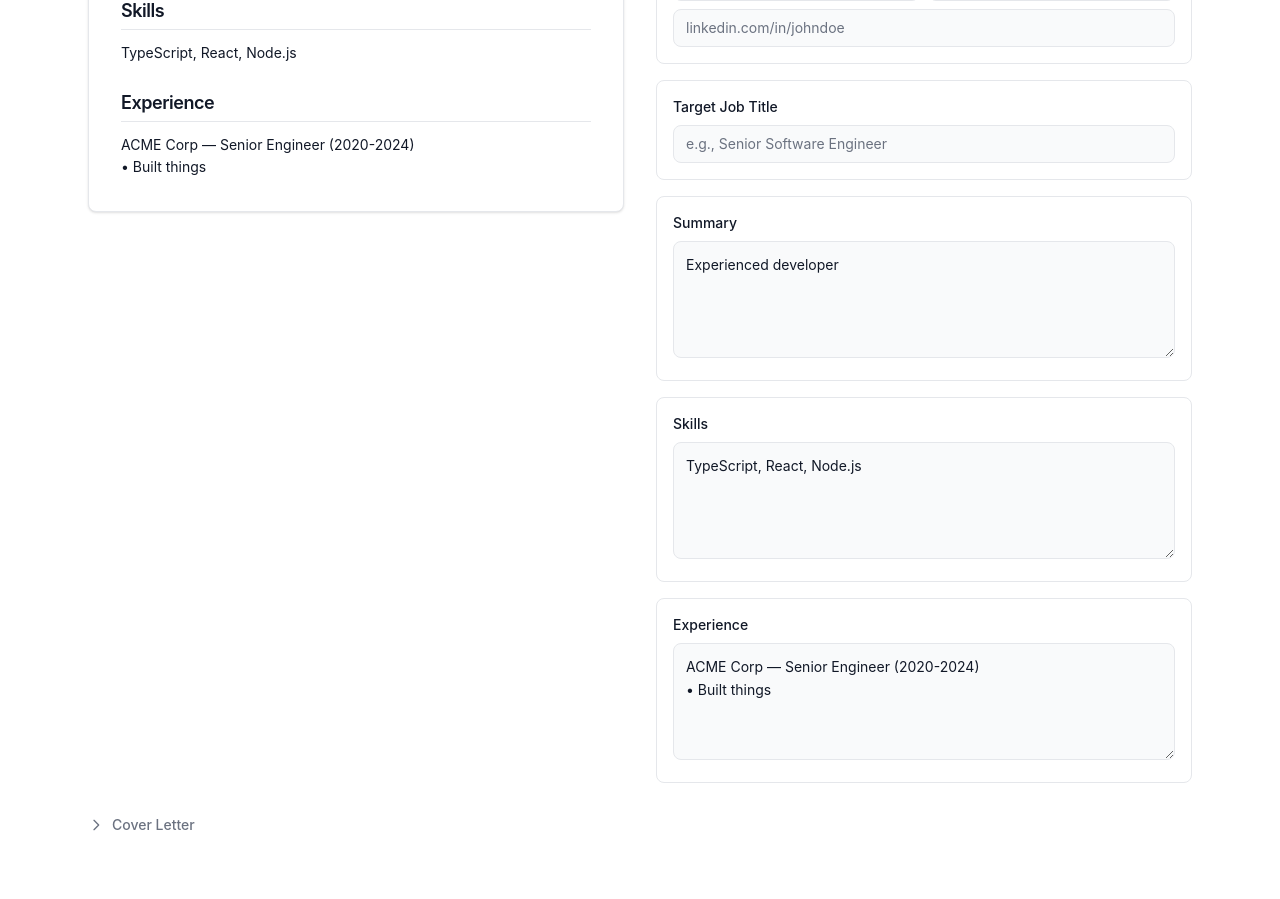
Scenario: ResultPage › collapses cover letter on second click
(page scrolled)
Click the button "Cover Letter".
click(141, 825)  # box [88,815,195,835]
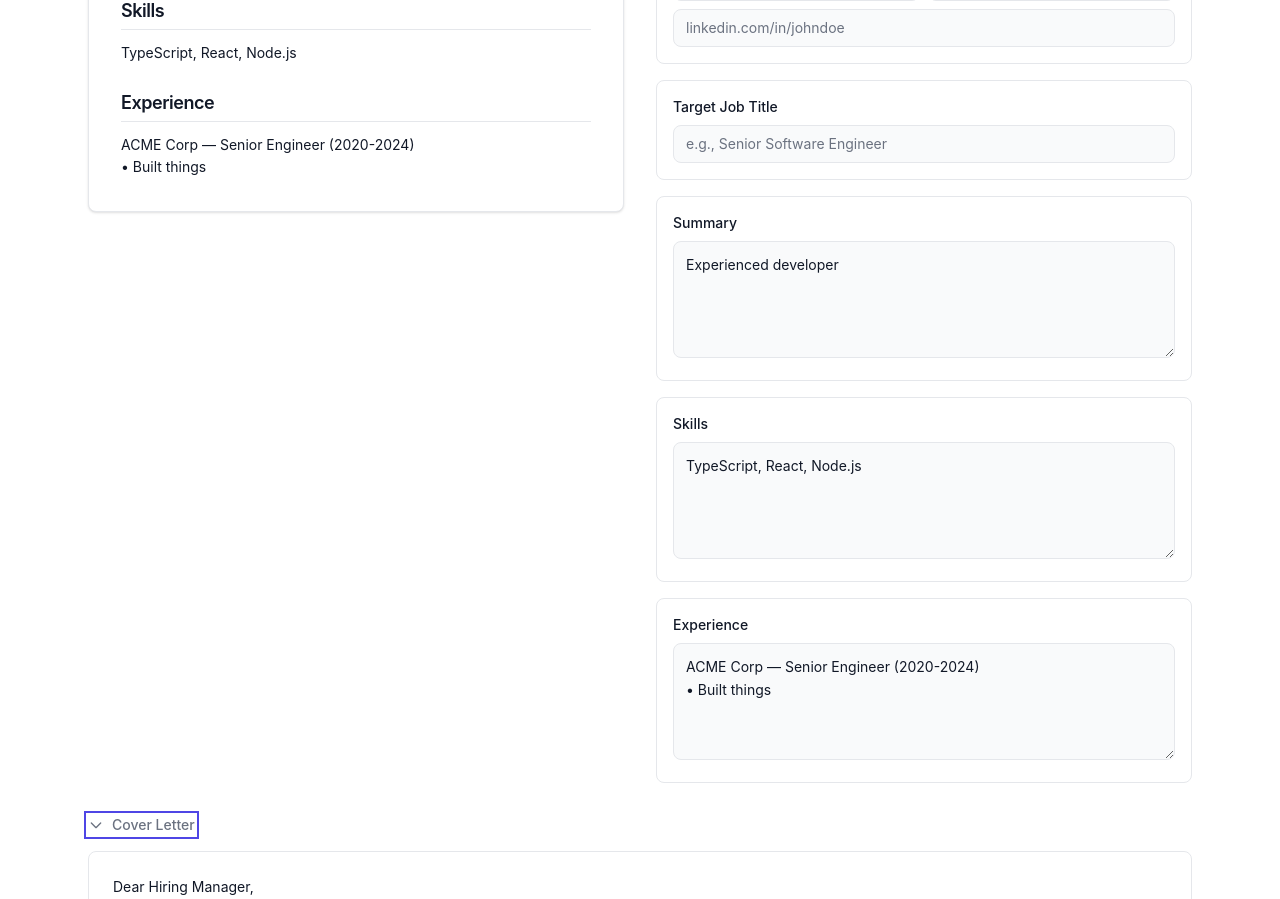
Expected: the button "Cover Letter" is expanded
Click the button "Cover Letter".
click(141, 825)  # box [88,815,195,835]
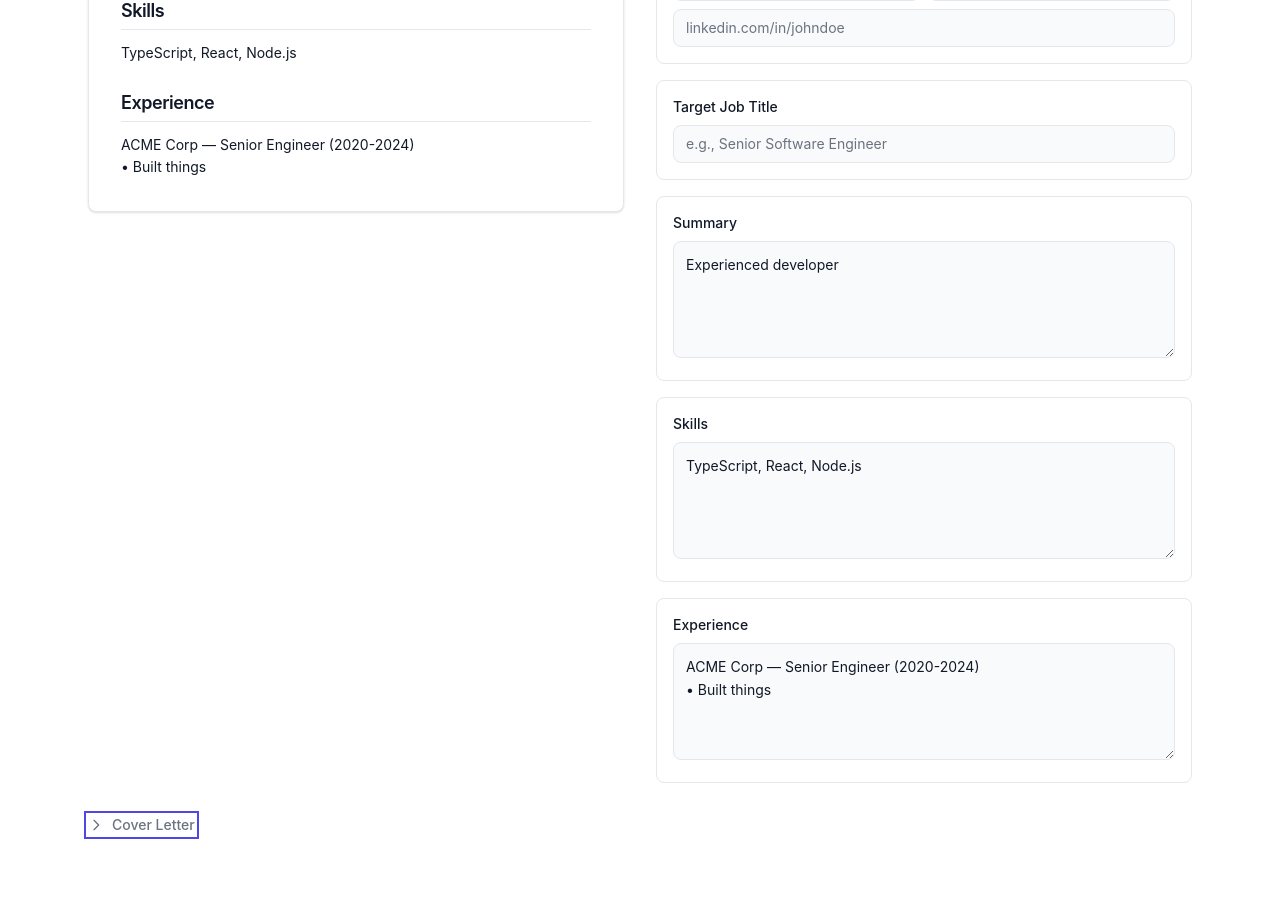
Expected: the button "Cover Letter" is collapsed, [88,815,195,835]
